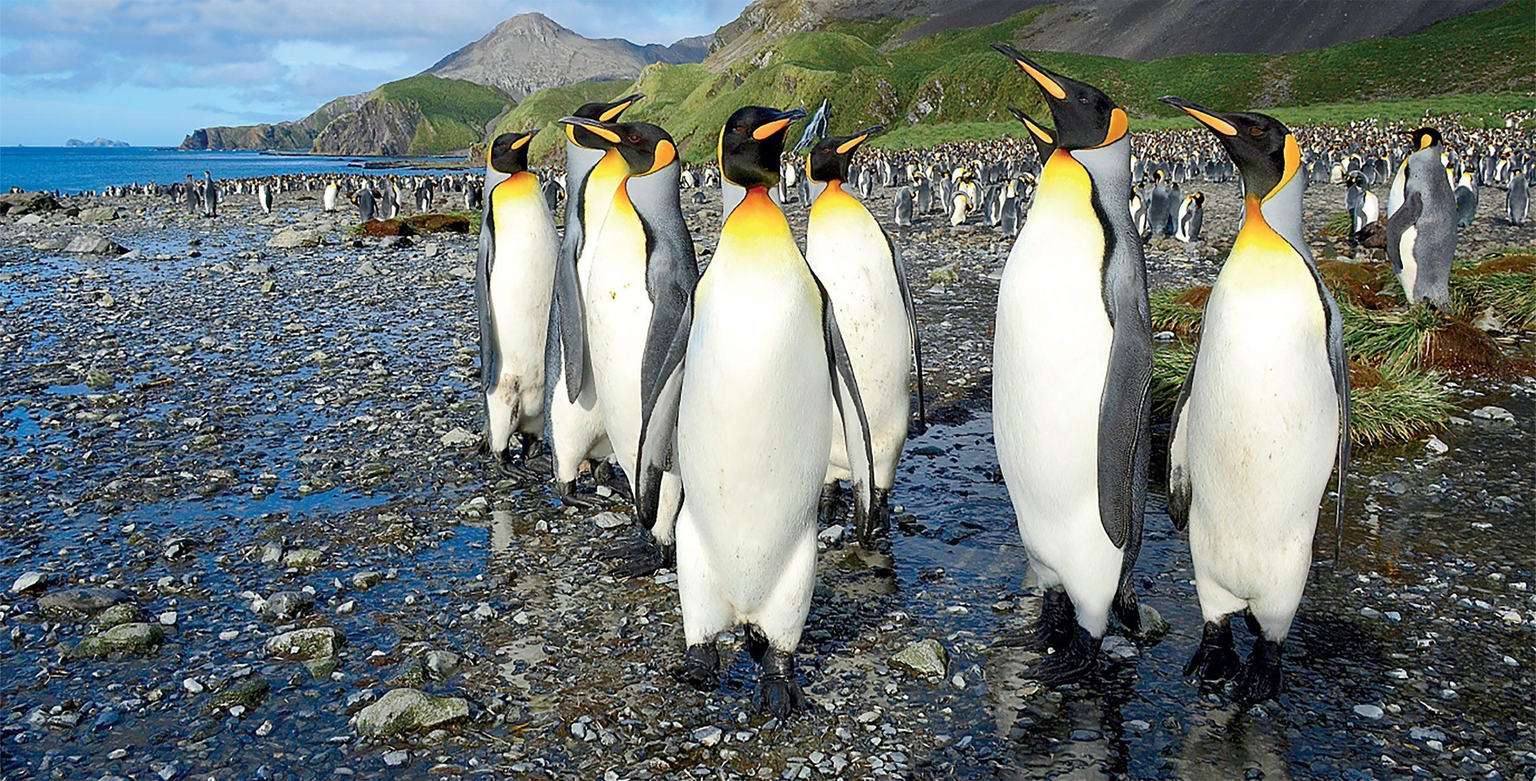Penguin: (636, 108, 876, 719), (1161, 96, 1350, 701), (993, 42, 1151, 686), (567, 117, 699, 563), (804, 126, 924, 534), (546, 126, 627, 503), (474, 132, 558, 476), (1386, 126, 1458, 309), (819, 417, 852, 524), (1345, 170, 1381, 251), (573, 96, 638, 123), (1172, 189, 1202, 243), (1455, 167, 1478, 232), (1504, 167, 1530, 224), (1148, 167, 1168, 240), (892, 182, 920, 222), (379, 174, 403, 219), (351, 184, 379, 222), (1129, 184, 1150, 234), (992, 193, 1017, 234), (982, 183, 1005, 226), (910, 172, 936, 210), (947, 191, 974, 224), (178, 173, 201, 210), (542, 179, 564, 217), (1167, 178, 1181, 235), (1476, 150, 1497, 187), (859, 163, 878, 201), (202, 170, 217, 217), (938, 170, 953, 215), (322, 175, 340, 212), (965, 178, 982, 215), (1006, 175, 1027, 204), (421, 174, 437, 211), (798, 167, 811, 210), (257, 179, 272, 216), (1361, 156, 1381, 183), (1492, 153, 1509, 184), (1182, 154, 1201, 180), (1131, 154, 1147, 184), (675, 166, 694, 189), (1374, 151, 1388, 182), (1443, 159, 1457, 190), (461, 180, 474, 210), (1330, 157, 1345, 183), (1221, 157, 1237, 181), (1348, 154, 1359, 188), (166, 181, 181, 205), (1199, 159, 1214, 183), (1524, 152, 1535, 184), (783, 159, 796, 186), (1313, 158, 1327, 183), (418, 185, 432, 209), (1169, 161, 1185, 182), (471, 178, 482, 208), (703, 163, 716, 188), (1213, 157, 1223, 185), (931, 165, 940, 195), (952, 174, 966, 192), (442, 177, 450, 195), (452, 174, 460, 192)
